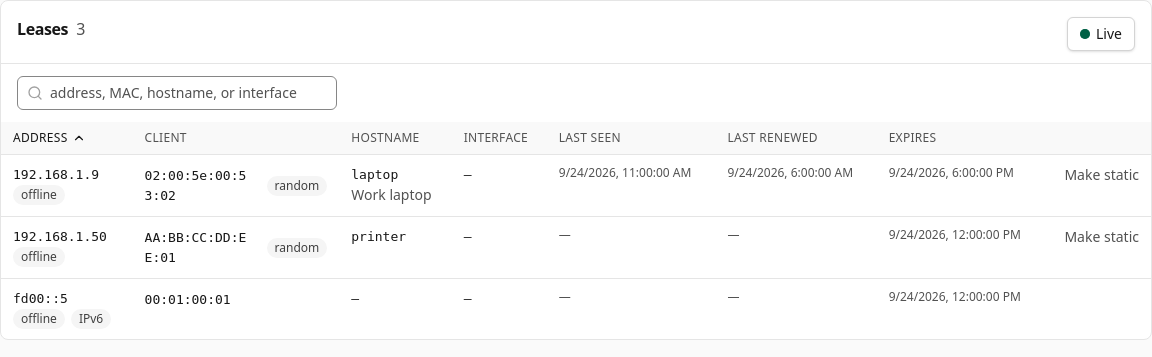
it: LeasesTab › searches every field, and a MAC whatever its separators
Step 1. Type "work" into the search field with placeholder "address, MAC, hostname, or interface" → (177, 93), box [17,76,337,110]
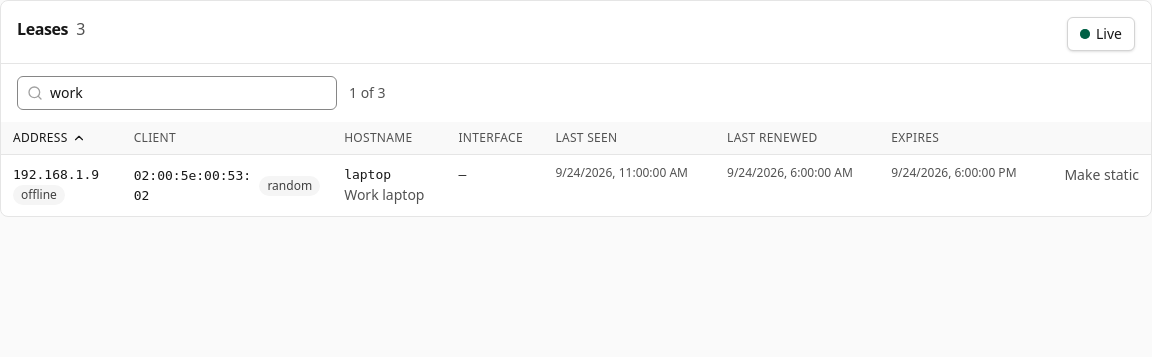
Now the text "1 of 3" is shown, box [349,83,386,103]
Step 2. Replace the text in the search field with "aa-bb-cc-dd-ee-01" → (177, 93), box [17,76,337,110]
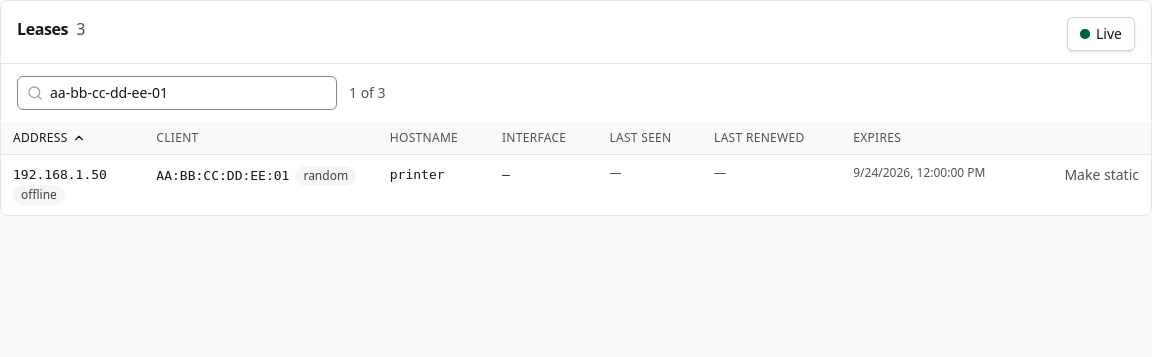
Step 3. Replace the text in the search field with "nobody" → (177, 93), box [17,76,337,110]
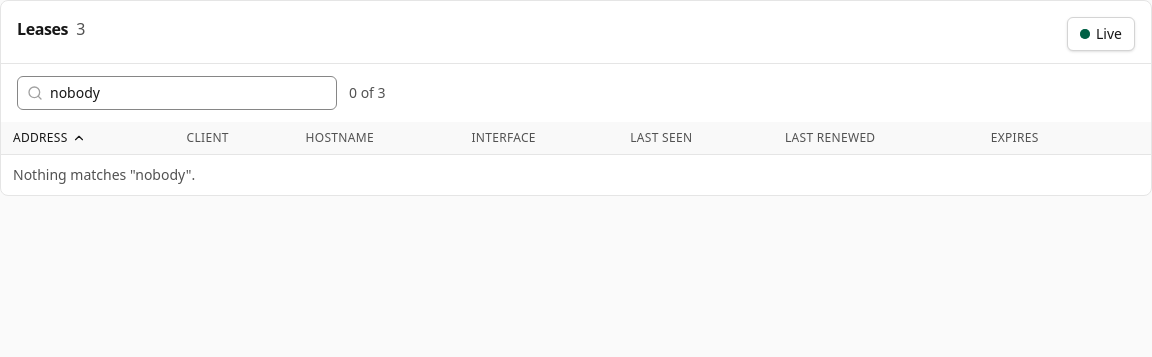
Now the row "Nothing matches \"nobody\"." reads "Nothing matches \"nobody\".", box [13,165,195,184]
